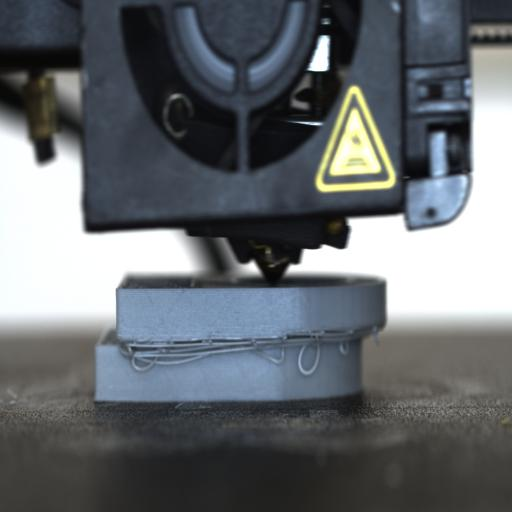layer_shift: (92, 324, 388, 352)
